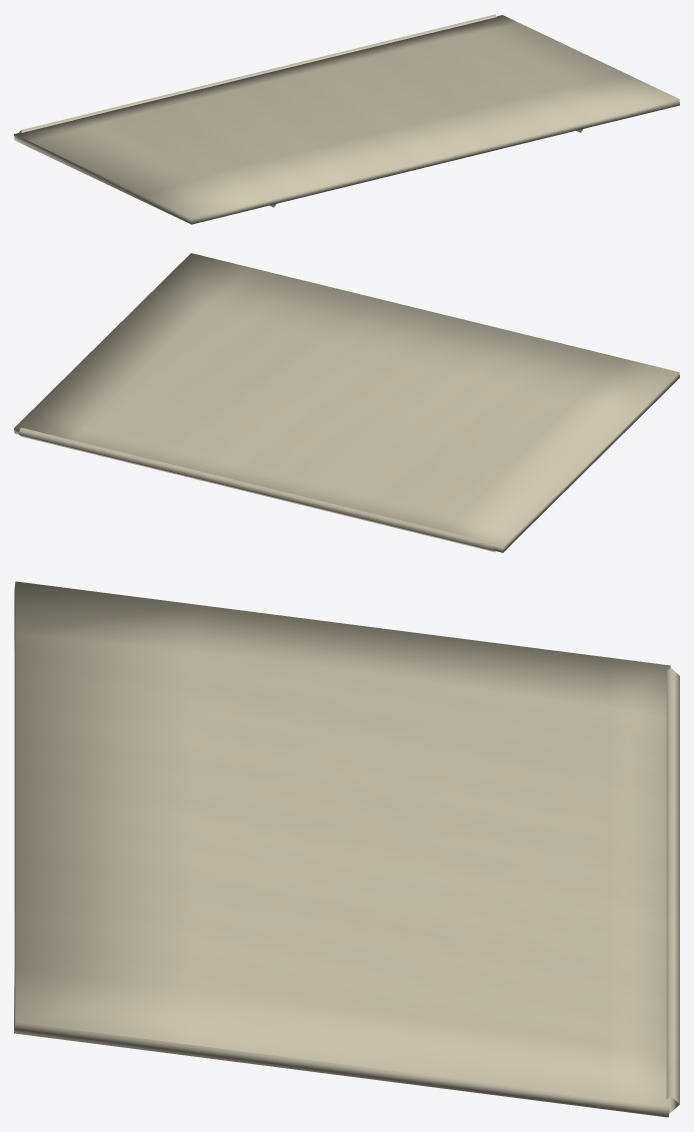
The model's file is zastava_101_hood.glb.
3 views of the same model, one above another, from view 1: azimuth 30°, elevation 25°; view 2: azimuth 150°, elevation 25°; view 3: azimuth 270°, elevation 25° (orthographic). The views are drawn at different scales.
Parts seen in each view (by area): view 1: zastava_101_hood; view 2: zastava_101_hood; view 3: zastava_101_hood.
Part boxes in pixels (x1,y1,x2,y2): zastava_101_hood: (14, 14, 679, 224); zastava_101_hood: (14, 253, 679, 552); zastava_101_hood: (14, 581, 679, 1117).
Size of the model in its own units: 1.34 by 0.1598 by 0.854.
2 materials, 2 textured.
